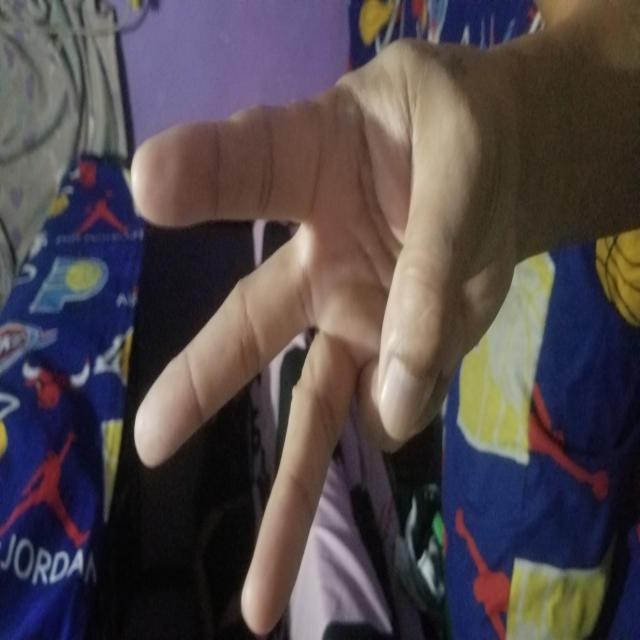W: (4, 130, 599, 516)
